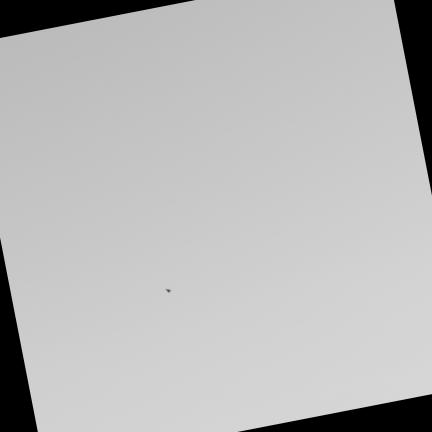Shahed: (165, 288, 172, 293)
